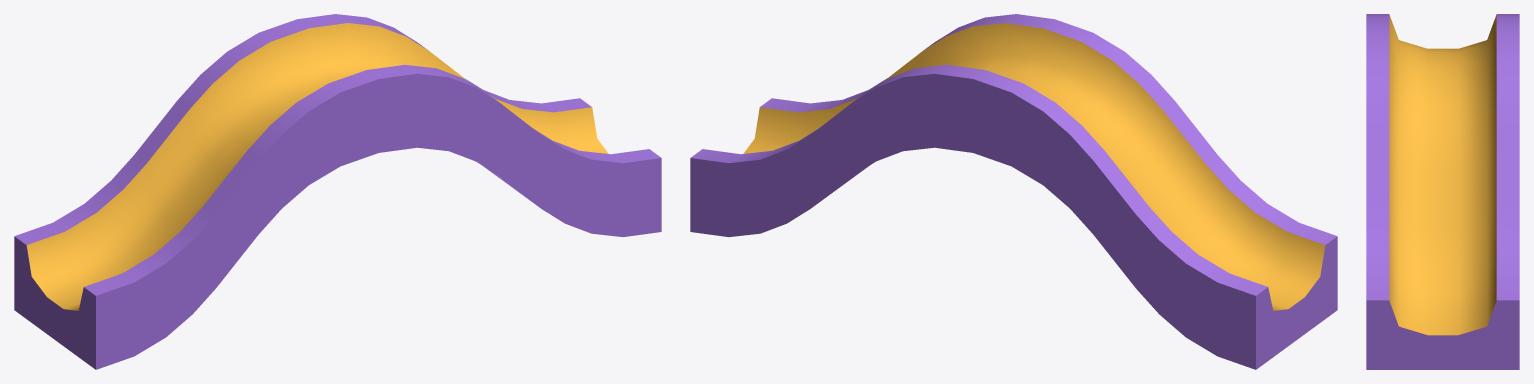
The model's file is bump-c-col.glb.
The picture shows the model from 3 angles, left to right: view 1: azimuth 30°, elevation 25°; view 2: azimuth 150°, elevation 25°; view 3: azimuth 270°, elevation 25°; orthographic projection. The views are drawn at different scales.
Visible parts, largest first — view 1: bump-c-col; view 2: bump-c-col; view 3: bump-c-col.
Boxes of the visible parts, bbox=[...] form: bump-c-col: bbox=[14, 14, 661, 369]; bump-c-col: bbox=[690, 14, 1337, 369]; bump-c-col: bbox=[1366, 14, 1519, 369].
Size of the model in its own units: 4 by 1.5 by 1.
Materials: 1 (1 with a texture image).
